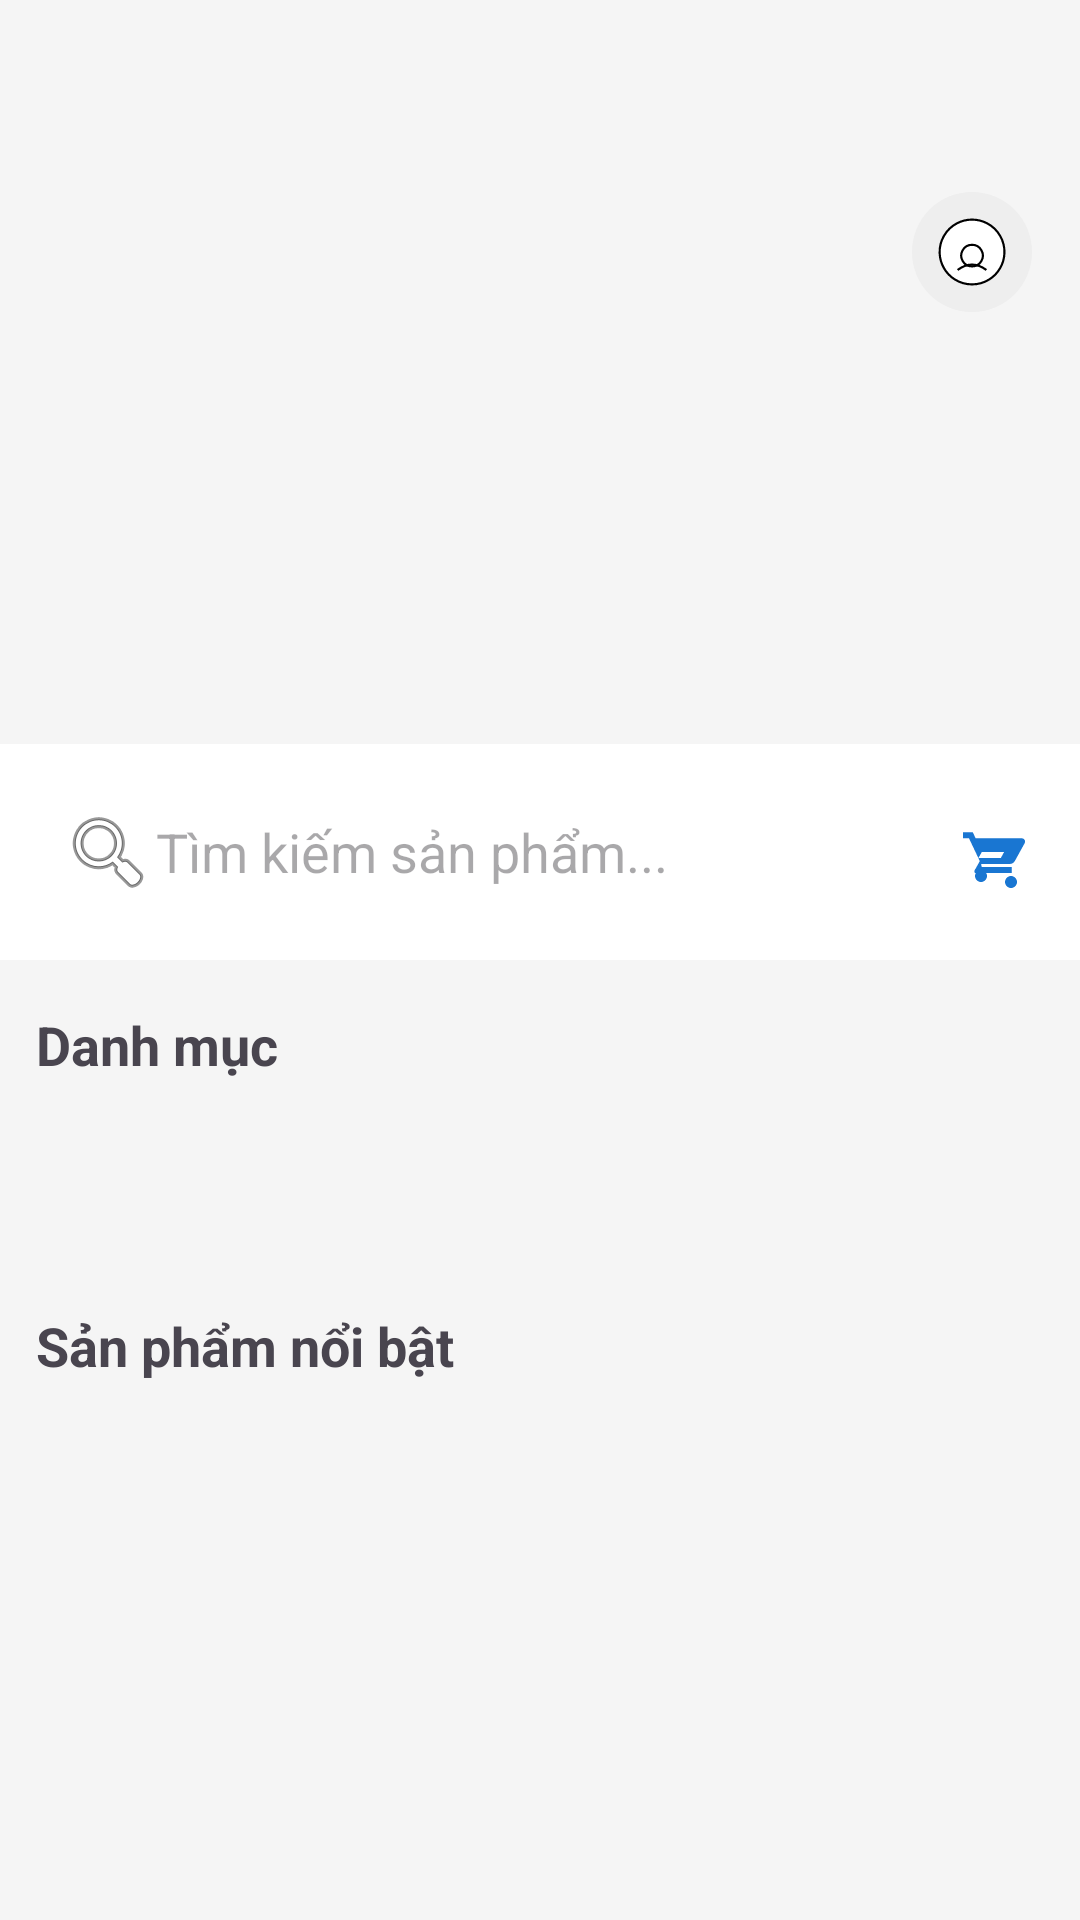

Where icons sit on this 1080 x 1920 app screen, as (x1,y1,x2,y2):
Giỏ hàng: (963,832,1025,888)
Trang cá nhân: (938,218,1006,286)
